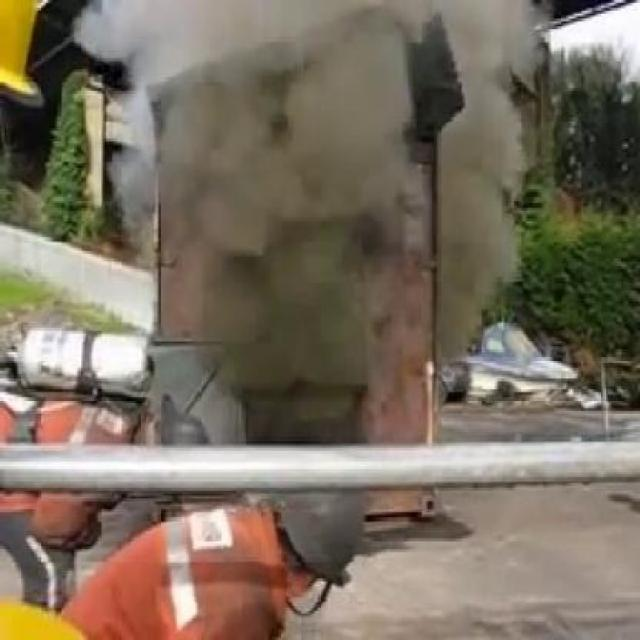smoke: (190, 76, 396, 350), (445, 122, 510, 304), (98, 8, 284, 70)
